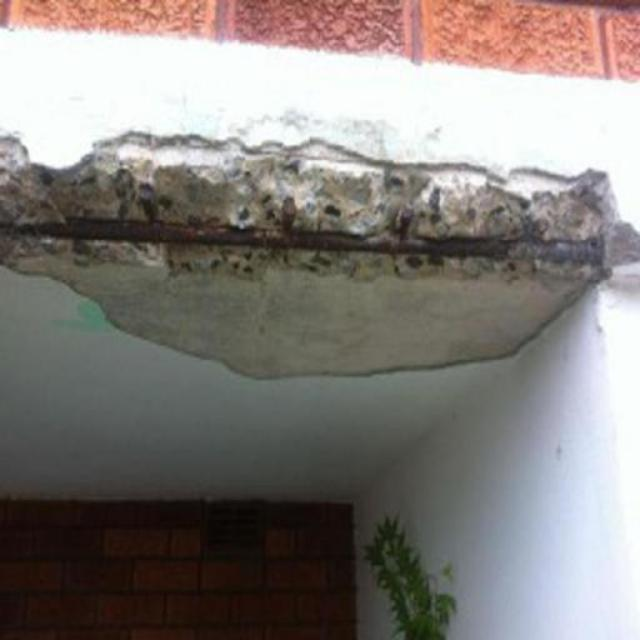D0w0: (2, 134, 639, 282)
